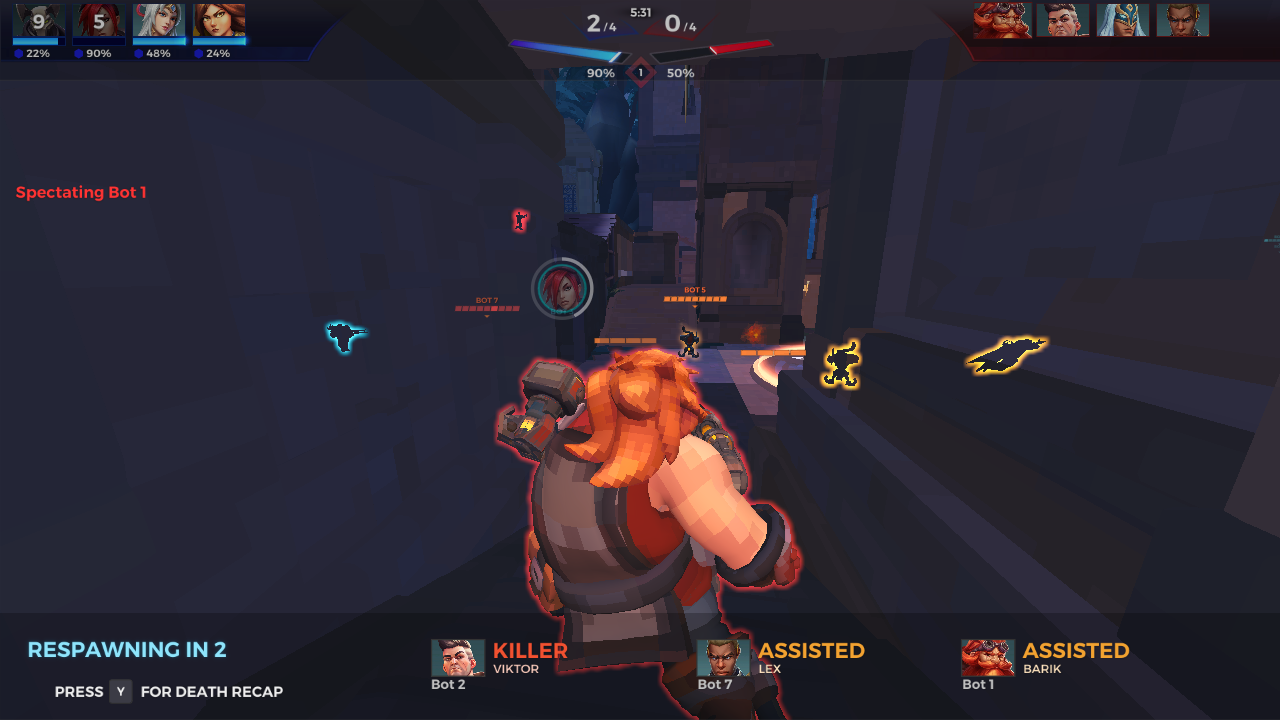model: (975, 324, 1048, 378), (513, 203, 530, 239)
